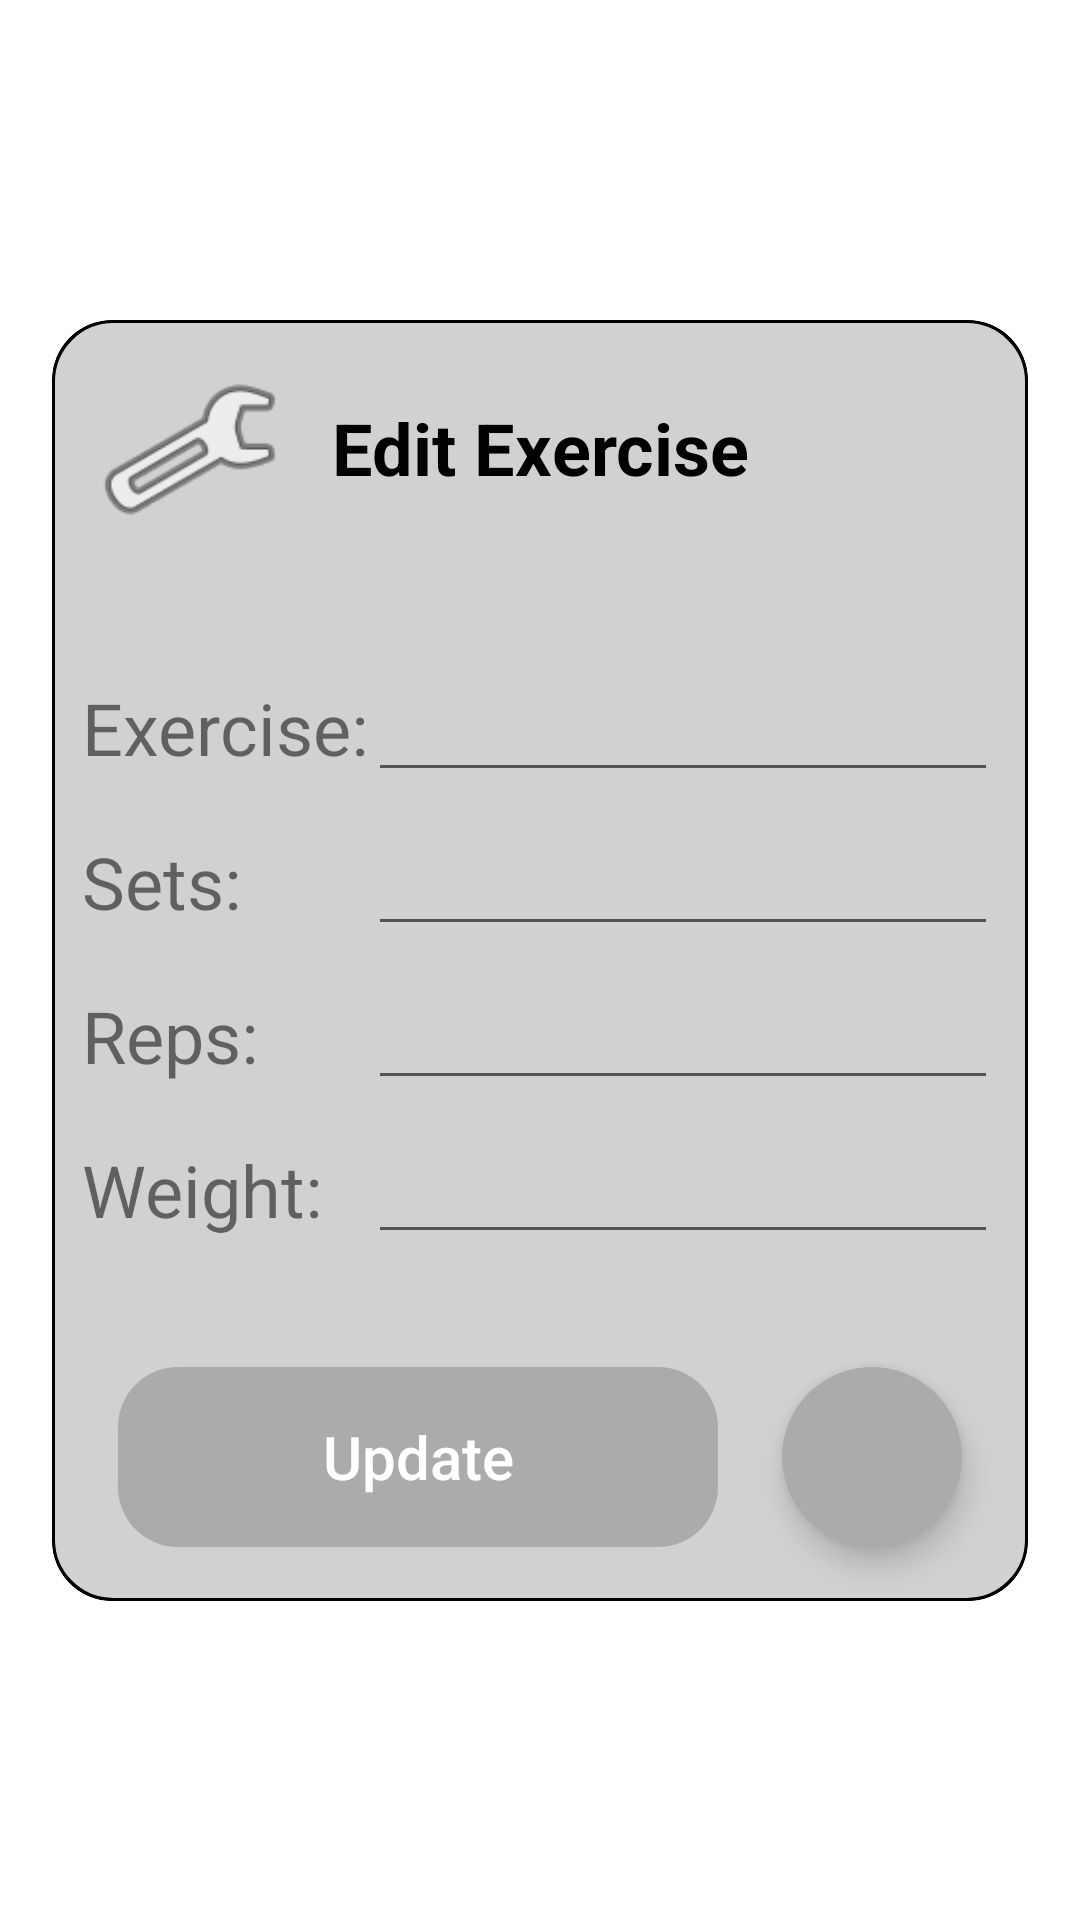

Icon click points for this 1080 × 1920 phone screenshot, format [x,y]:
manage: [190,449]
